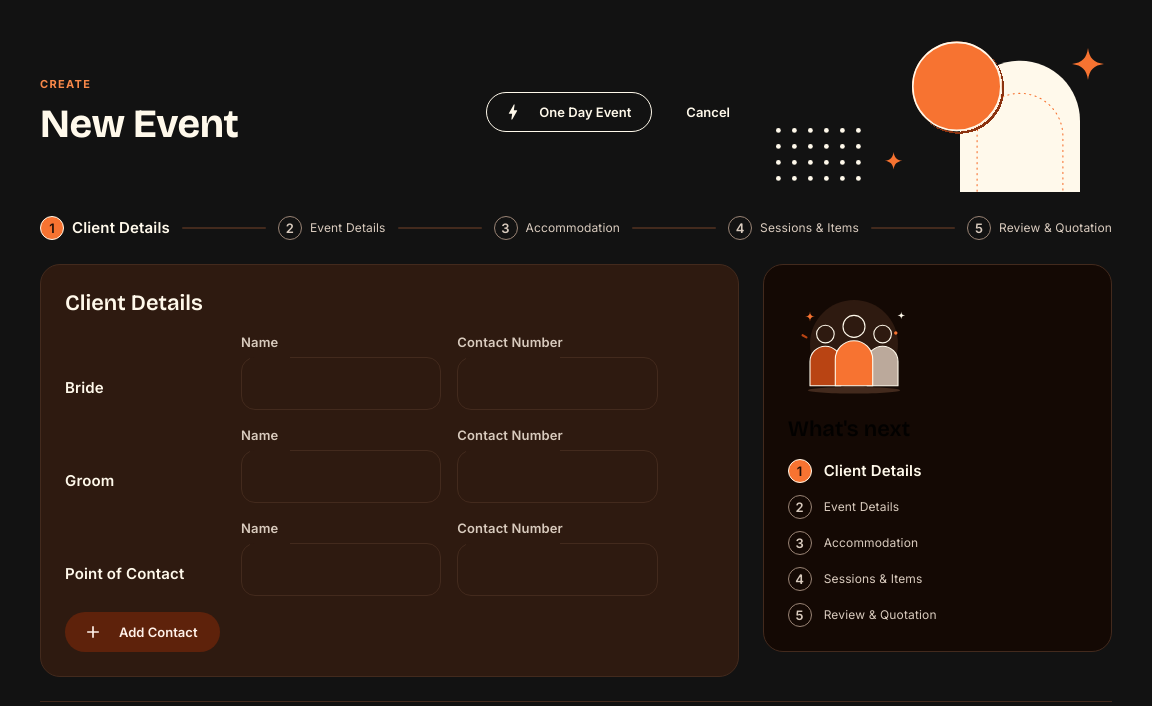
Scenario: ClientDetailsStep › removing an added row drops it from the rendered list
Click the button "Add Contact" at (142, 632), box [65, 612, 220, 652]
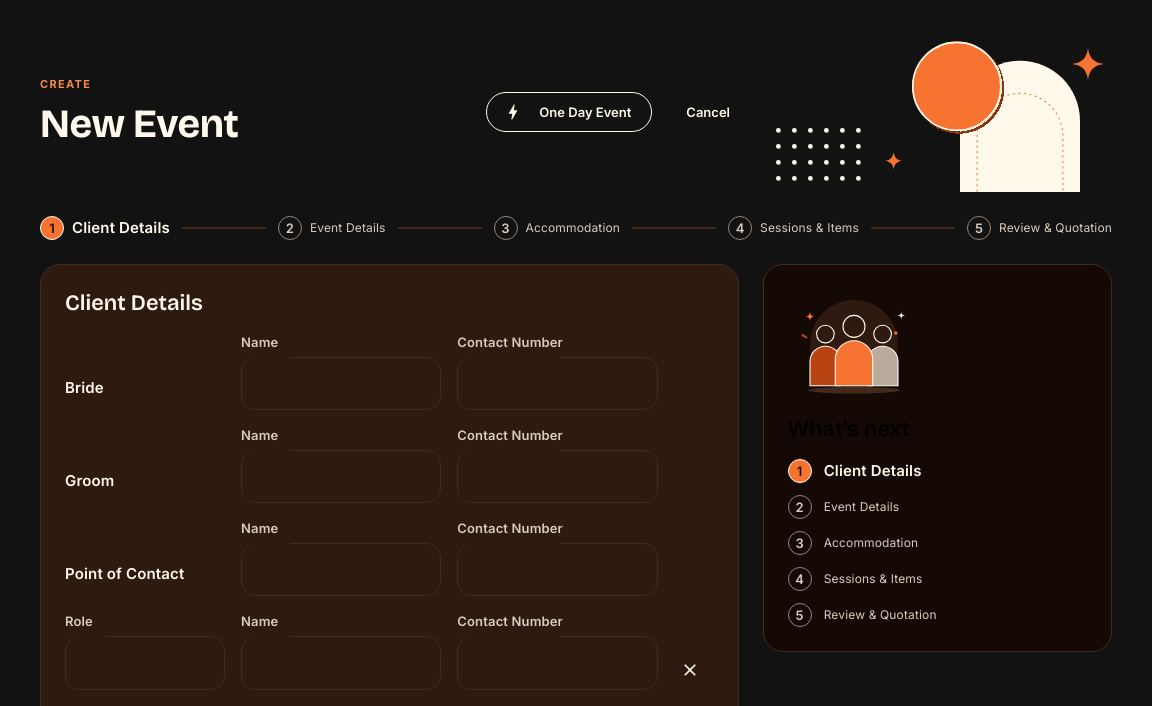
Click the button named "Remove contact row 4" at (690, 670), box [674, 654, 706, 686]
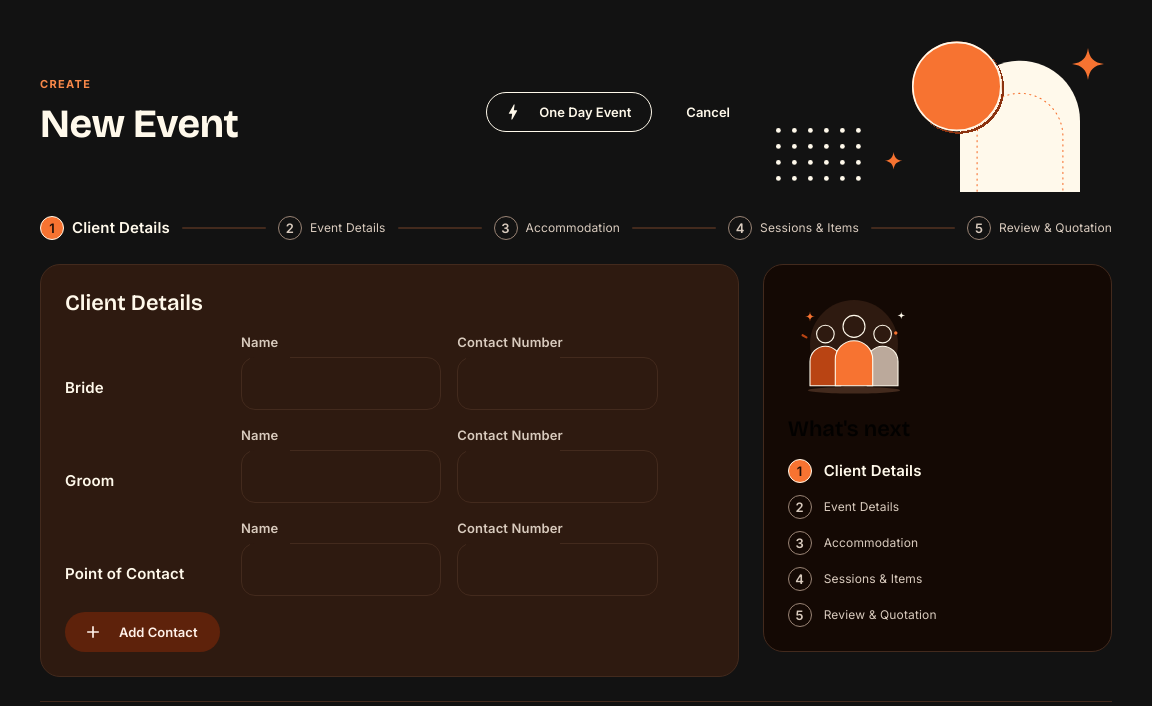
expect the label labelled "Role" is gone: met
